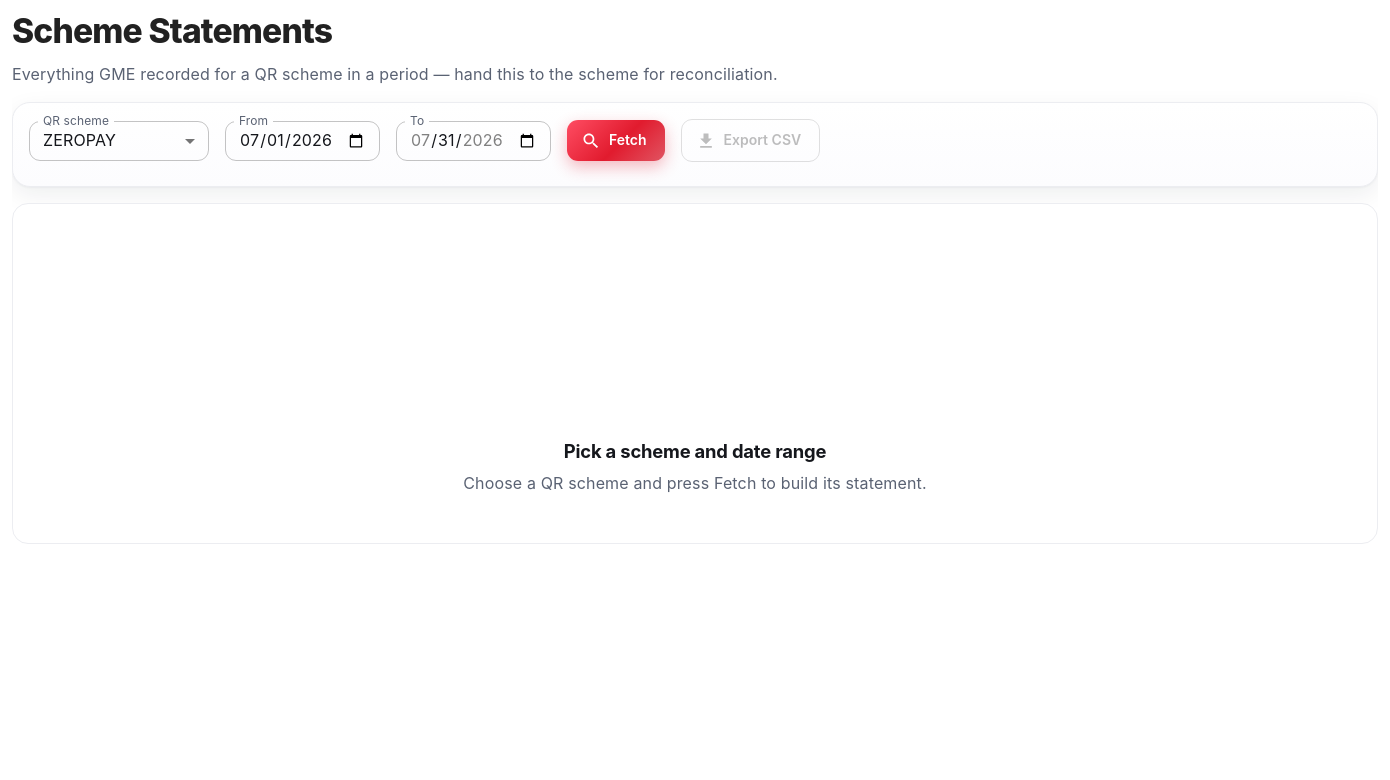
Scenario: SchemeStatementsPage › renders per-currency totals and the statement table after Fetch
This screenshot has width=1390, height=780.
Click the button "Fetch".
click(616, 141)  # box [567, 120, 665, 161]
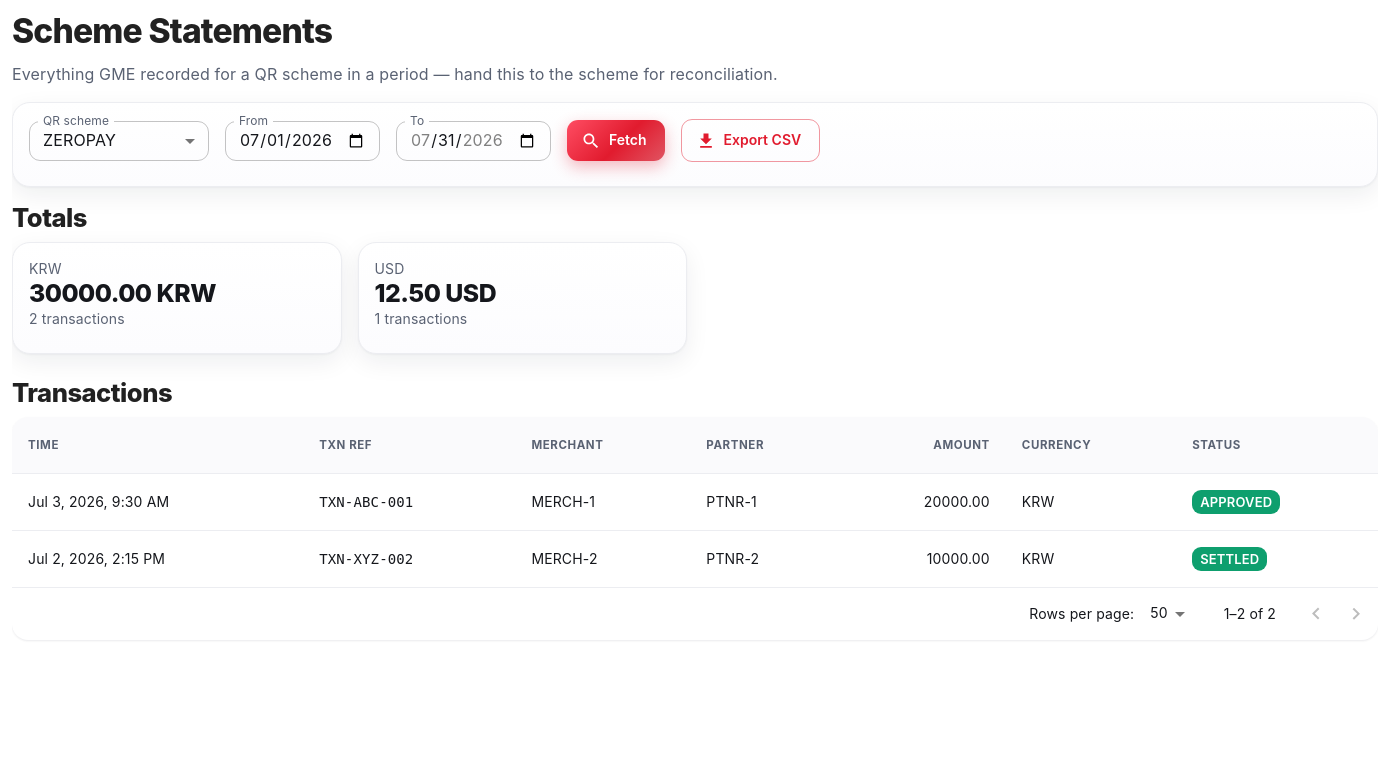
Now the text "30000.00 KRW" is shown, box [29, 278, 216, 308]
Now the text "12.50 USD" is shown, box [374, 278, 496, 308]
Now the text "TXN-ABC-001" is shown, box [303, 473, 515, 530]
